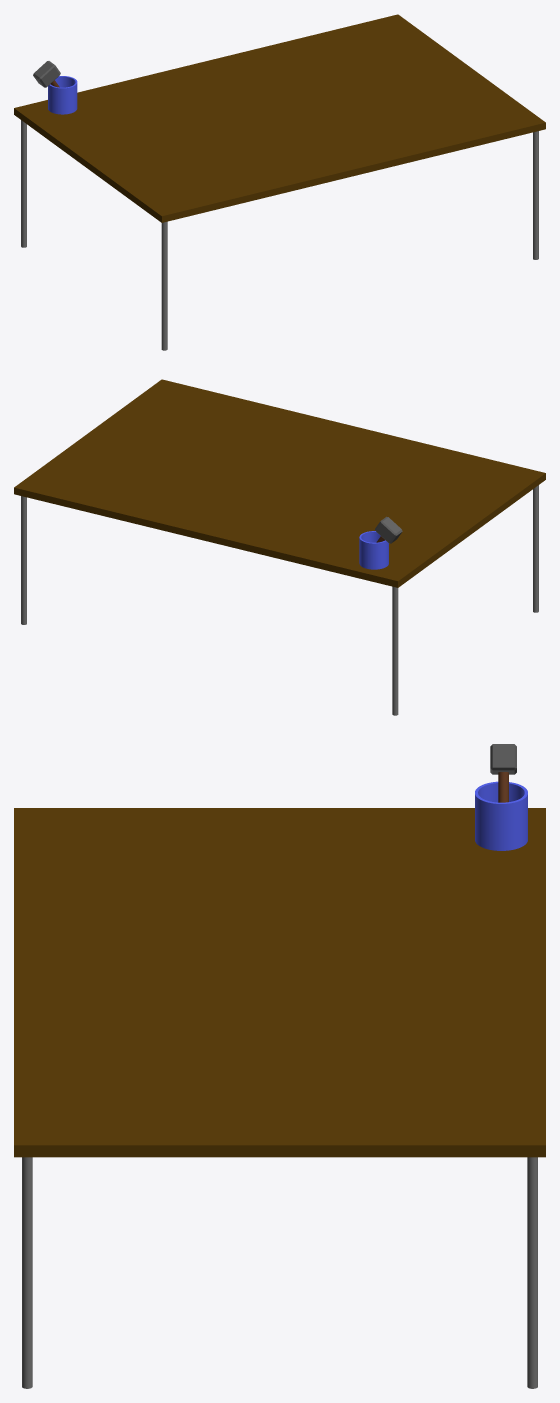
File: EtabliV2.fbx
3 renders of one model, top to bottom at view 1: azimuth 30°, elevation 25°; view 2: azimuth 150°, elevation 25°; view 3: azimuth 270°, elevation 25°, orthographic. The views are drawn at different scales.
Parts seen in each view (by area): view 1: Cylinder, Cylinder.001, Cube; view 2: Cylinder, Cylinder.001, Cube; view 3: Cylinder, Cylinder.001, Cube.
Boxes of the visible parts, box(x1,y1,x2,y2) form: Cylinder: box(14, 14, 545, 350); Cylinder.001: box(48, 76, 77, 114); Cube: box(33, 61, 60, 87); Cylinder: box(14, 379, 545, 715); Cylinder.001: box(359, 531, 388, 569); Cube: box(375, 516, 402, 543); Cylinder: box(14, 808, 545, 1388); Cylinder.001: box(475, 781, 527, 850); Cube: box(490, 744, 516, 802).
Bounding box in the file's own units: 300 × 138 × 200.
